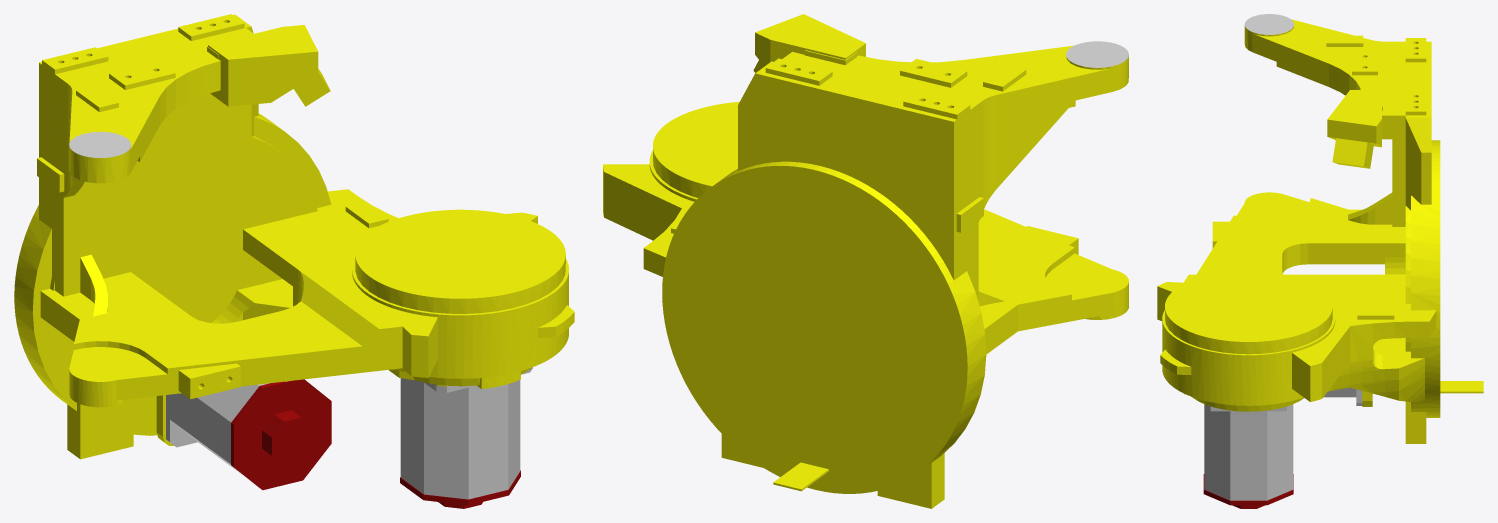
3 renders of one model, left to right at view 1: azimuth 30°, elevation 25°; view 2: azimuth 150°, elevation 25°; view 3: azimuth 270°, elevation 25°, orthographic. The views are drawn at different scales.
Parts seen in each view (by area): view 1: node; view 2: node; view 3: node.
Part boxes in pixels (x1=…): node: x1=14, y1=14, x2=574, y2=508; node: x1=603, y1=14, x2=1128, y2=508; node: x1=1157, y1=14, x2=1483, y2=508.
Bounding box in the file's own units: 873 × 737 × 632.
